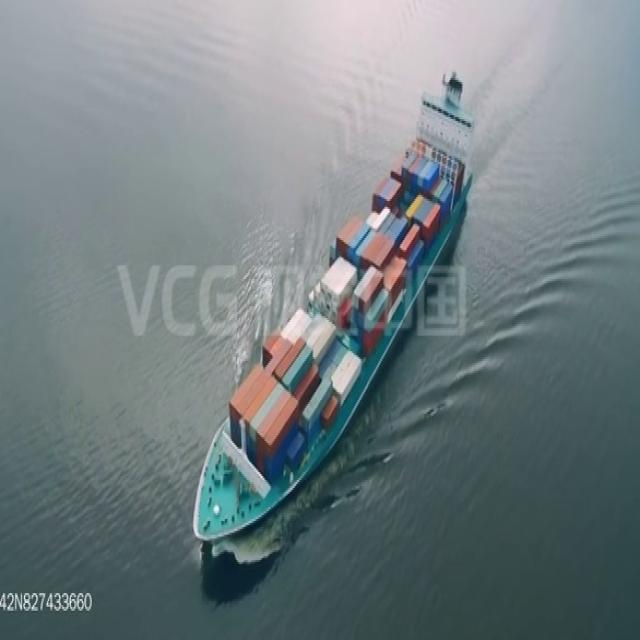cargoship: (188, 66, 474, 547)
